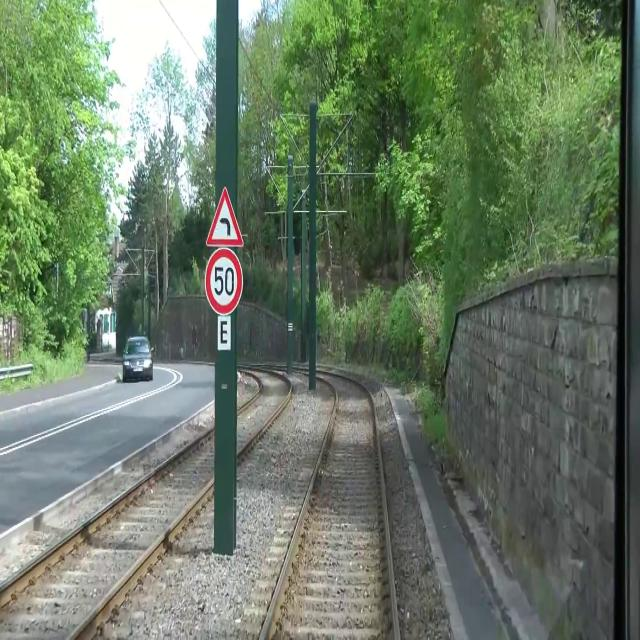rail-track: (0, 431, 213, 639), (264, 377, 394, 639), (238, 373, 289, 447)
